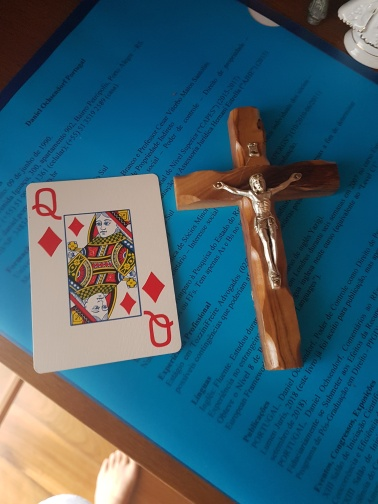queen: (25, 173, 183, 373)
